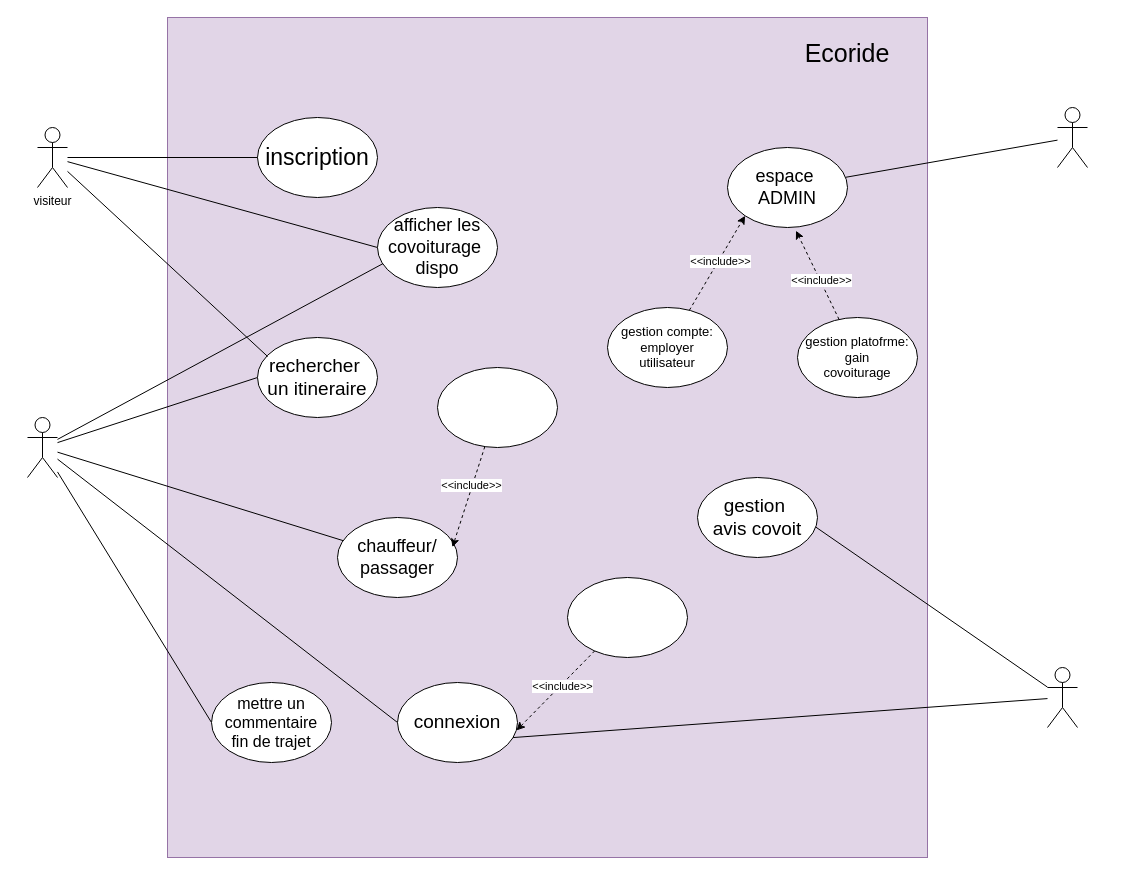
This 1128x875 diagram has some shape labels left out. Here are the shapes that lost their labels. From the top down, the centre of each, then its label:
At (x=1072, y=137): "administrateur".
At (x=497, y=407): "gestion covoit validation/annulation".
At (x=42, y=447): "utilisateur".
At (x=627, y=617): "valider un itineraire".
At (x=1062, y=697): "employer".
